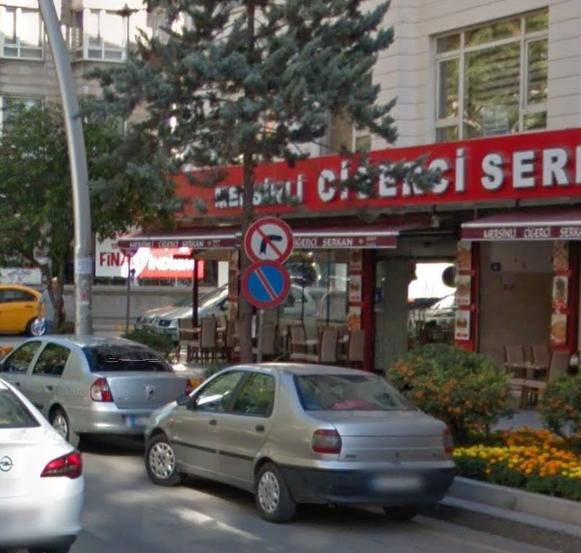nopark: (242, 263, 294, 304)
rightturnsareforbidden: (241, 215, 295, 259)
